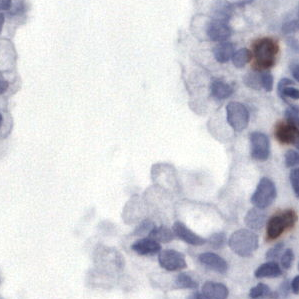Lymphocyte: (250, 37, 282, 71)
